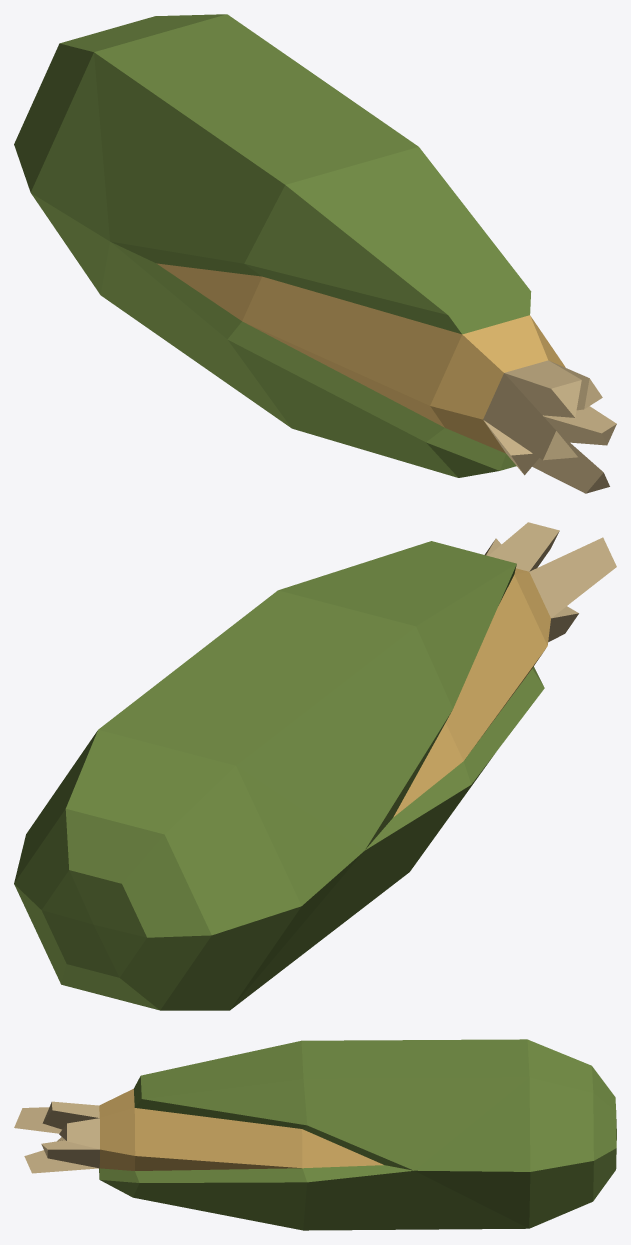
File: SM_Prop_Corn_01.glb
3 views of the same model, one above another, from view 1: azimuth 30°, elevation 25°; view 2: azimuth 150°, elevation 25°; view 3: azimuth 270°, elevation 25° (orthographic). The views are drawn at different scales.
Parts seen in each view (by area): view 1: SM_Prop_Corn_01; view 2: SM_Prop_Corn_01; view 3: SM_Prop_Corn_01.
Part boxes in pixels (bbox=[...]): SM_Prop_Corn_01: bbox=[14, 14, 616, 493]; SM_Prop_Corn_01: bbox=[14, 522, 616, 1010]; SM_Prop_Corn_01: bbox=[14, 1039, 616, 1230].
Size of the model in its own units: 0.1583 by 0.1399 by 0.5011.
1 material, 1 textured.
